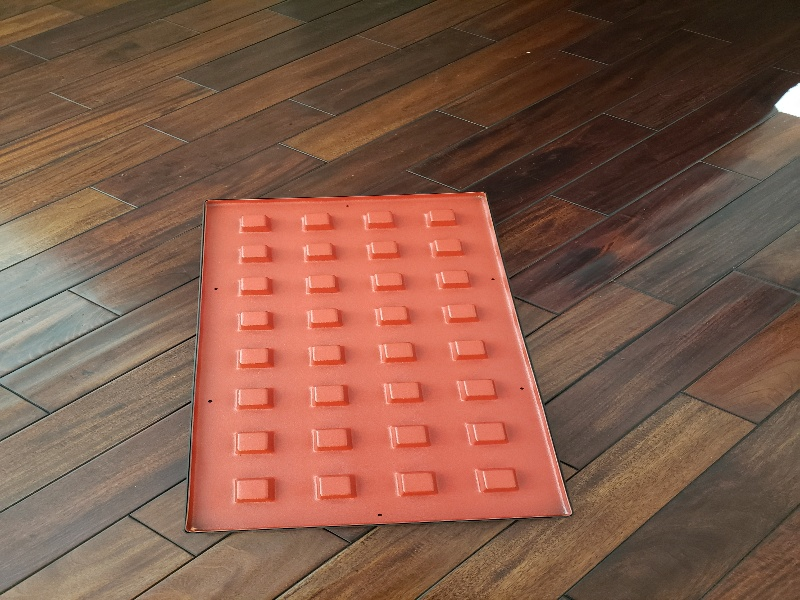skystone_base: (181, 187, 578, 532)
